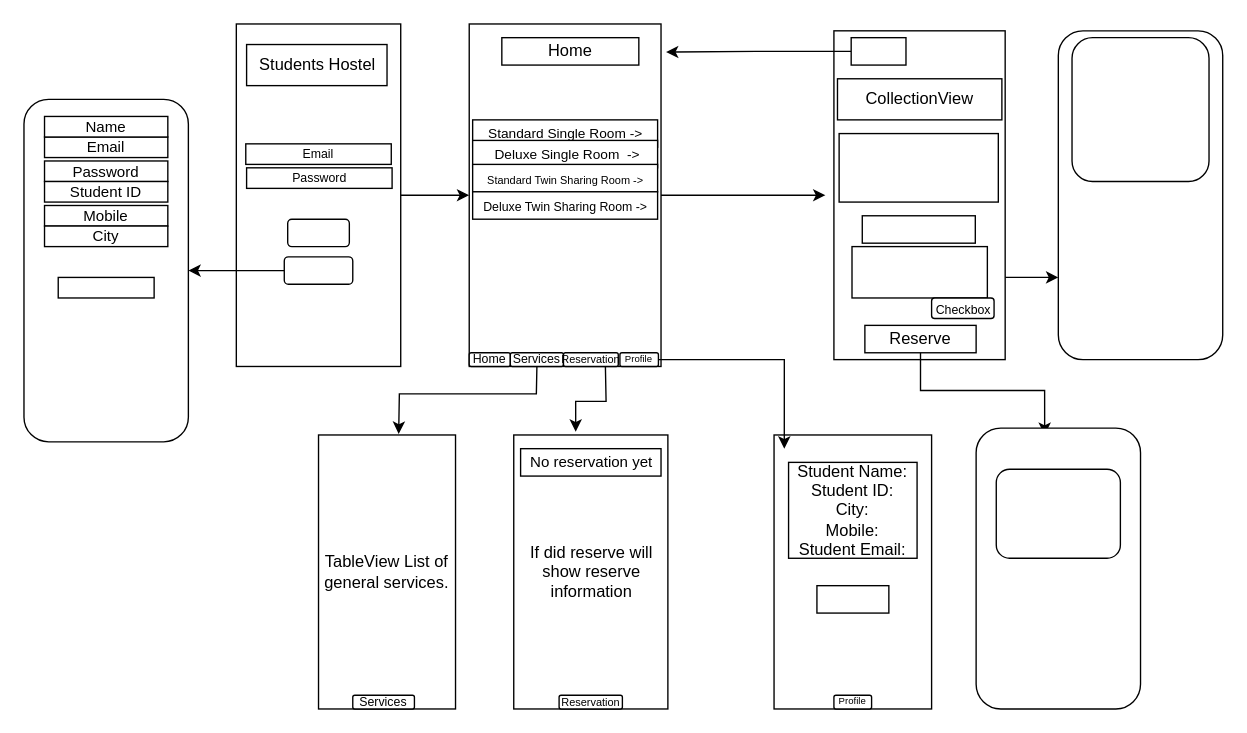
The diagram is 1247 pixels wide and 733 high, and some of its shapes have lost their labels. Here are the shapes that lost their labels. From the top down, the centre of each, then its label:
At point 878,50: "<Home".
At point 1140,109: "List of terms and conditions student should read".
At point 918,167: "Room Description".
At point 317,232: "Login".
At point 918,228: "Room Price".
At point 105,287: "Create Account".
At point 318,270: "Register".
At point 919,271: "Terms And Conditions Agreement".
At point 1057,513: "Reservation Done ✅".
At point 852,598: "Log out".
